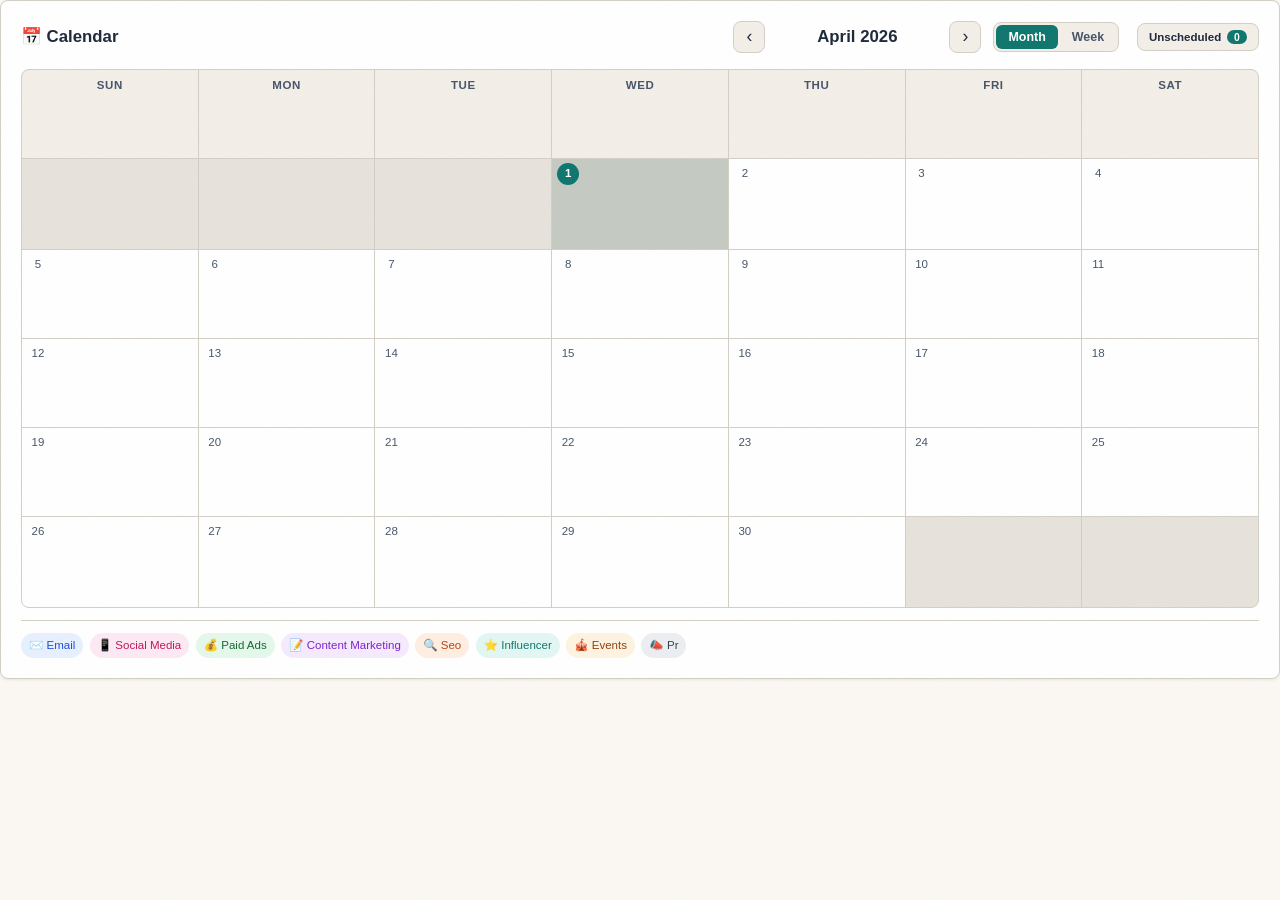
it: CalendarView – month view navigation › navigates to next month
What coordinates should you click on to do the following:
click the button named "next month"
I would click on:
 (965, 37)
Its box is [949,21,981,53].
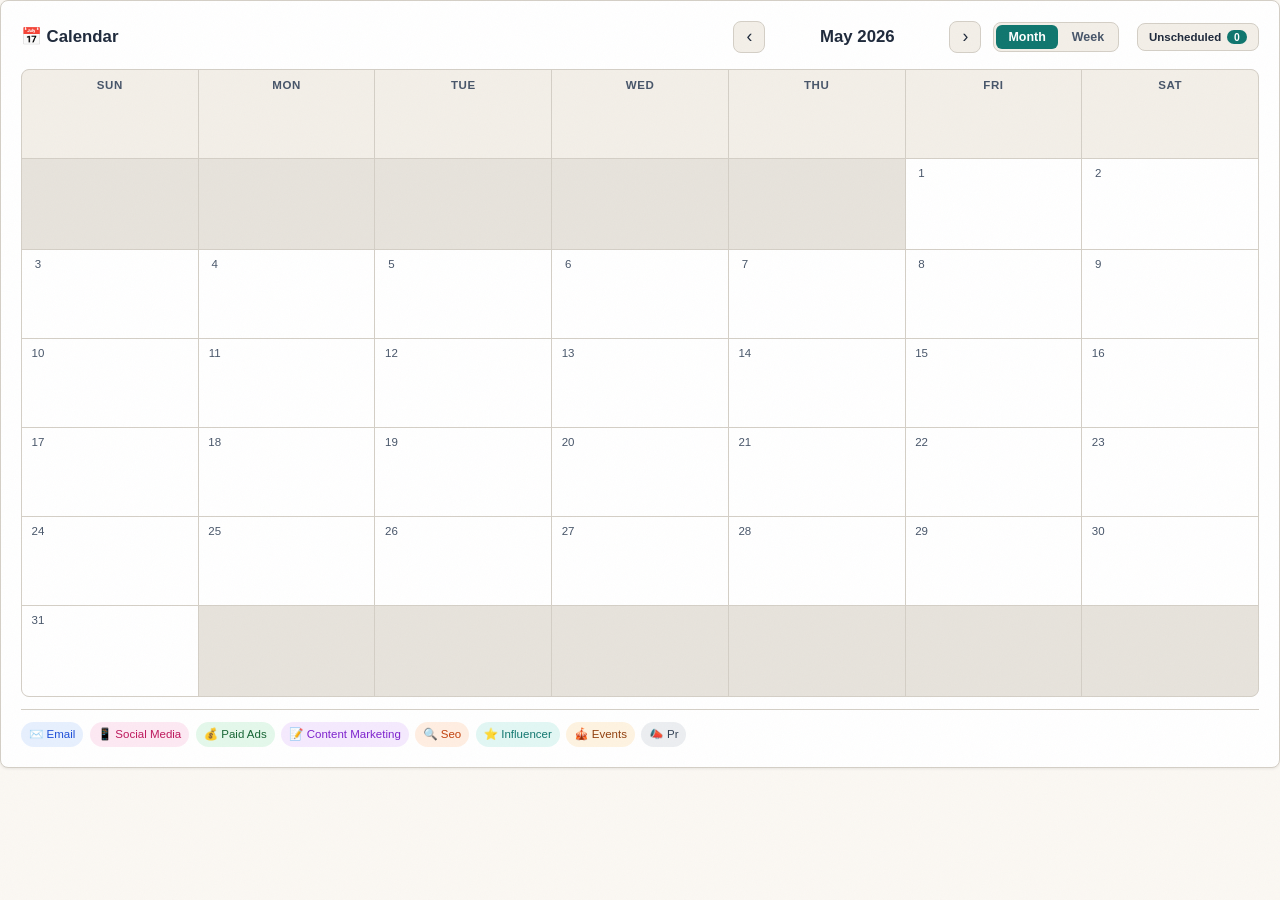
expect the text "May 2026" is shown: met, box [820,27,895,46]
